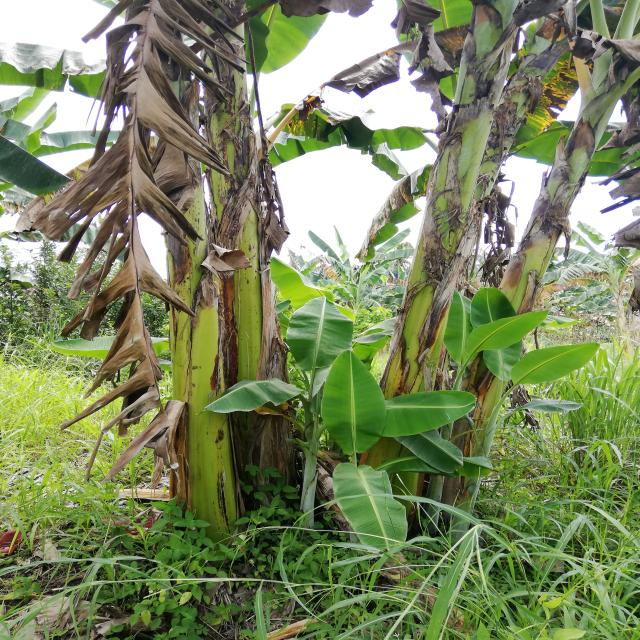Banana-plant: (433, 0, 640, 539), (352, 0, 522, 508), (140, 0, 259, 544), (201, 0, 317, 497)
